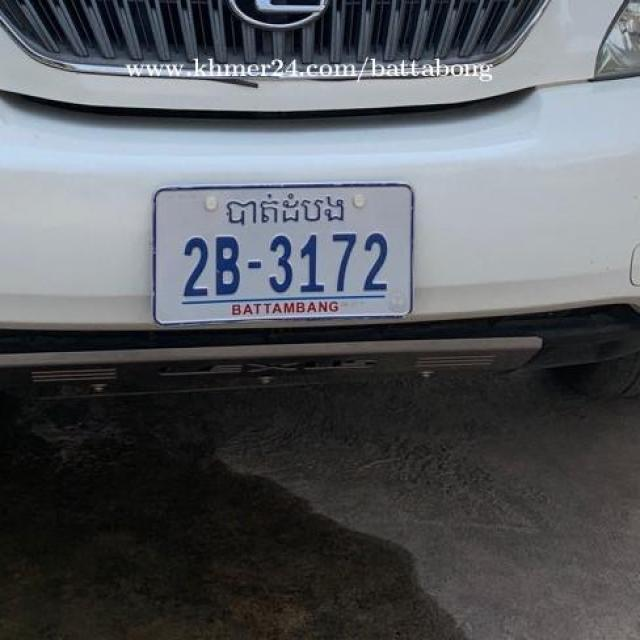Battambang: (225, 189, 352, 230)
